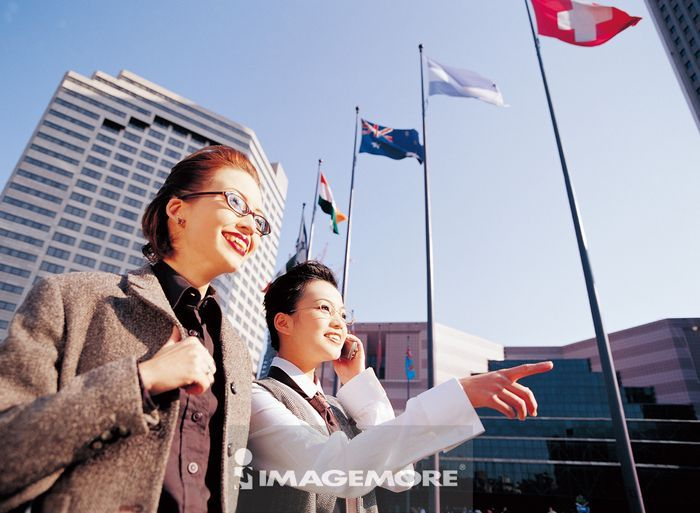talk: (306, 294, 365, 380)
